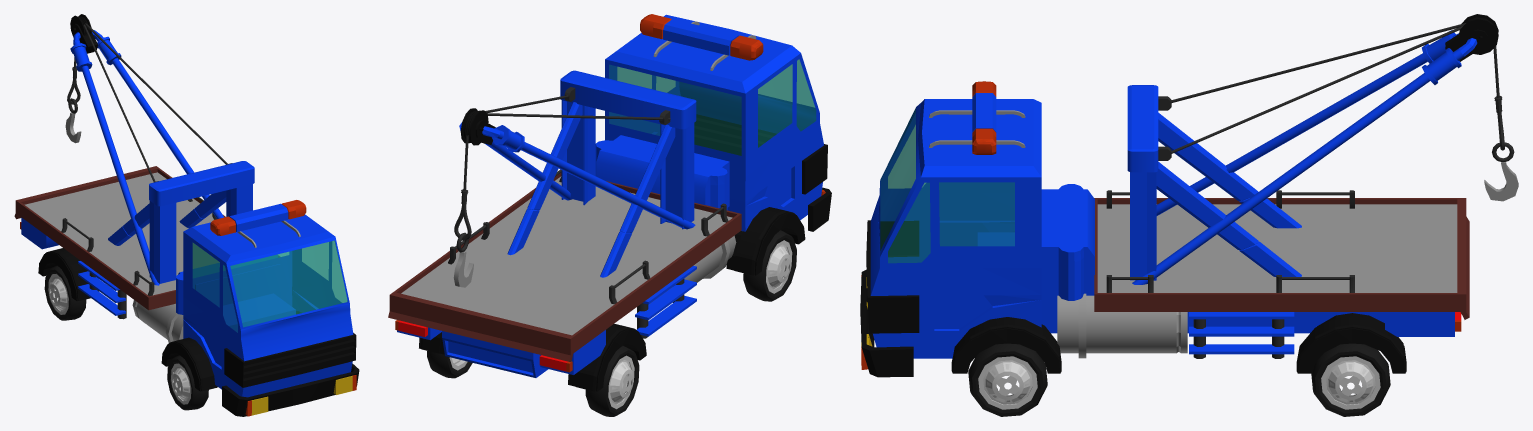
The model's file is SM_tow_truck_01.FBX.
The picture shows the model from 3 angles, left to right: view 1: azimuth 30°, elevation 25°; view 2: azimuth 150°, elevation 25°; view 3: azimuth 270°, elevation 25°; orthographic projection. The views are drawn at different scales.
Parts seen in each view (by area): view 1: carmesh; view 2: carmesh; view 3: carmesh.
Part boxes in pixels (x1,y1,x2,y2): carmesh: [14, 14, 359, 416]; carmesh: [388, 14, 831, 416]; carmesh: [860, 14, 1518, 416].
Bounding box in the file's own units: 257 × 427 × 717.
